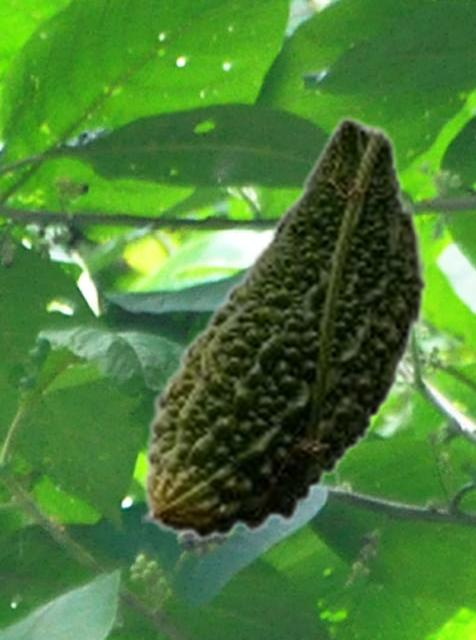ampalaya: (141, 115, 429, 541)
